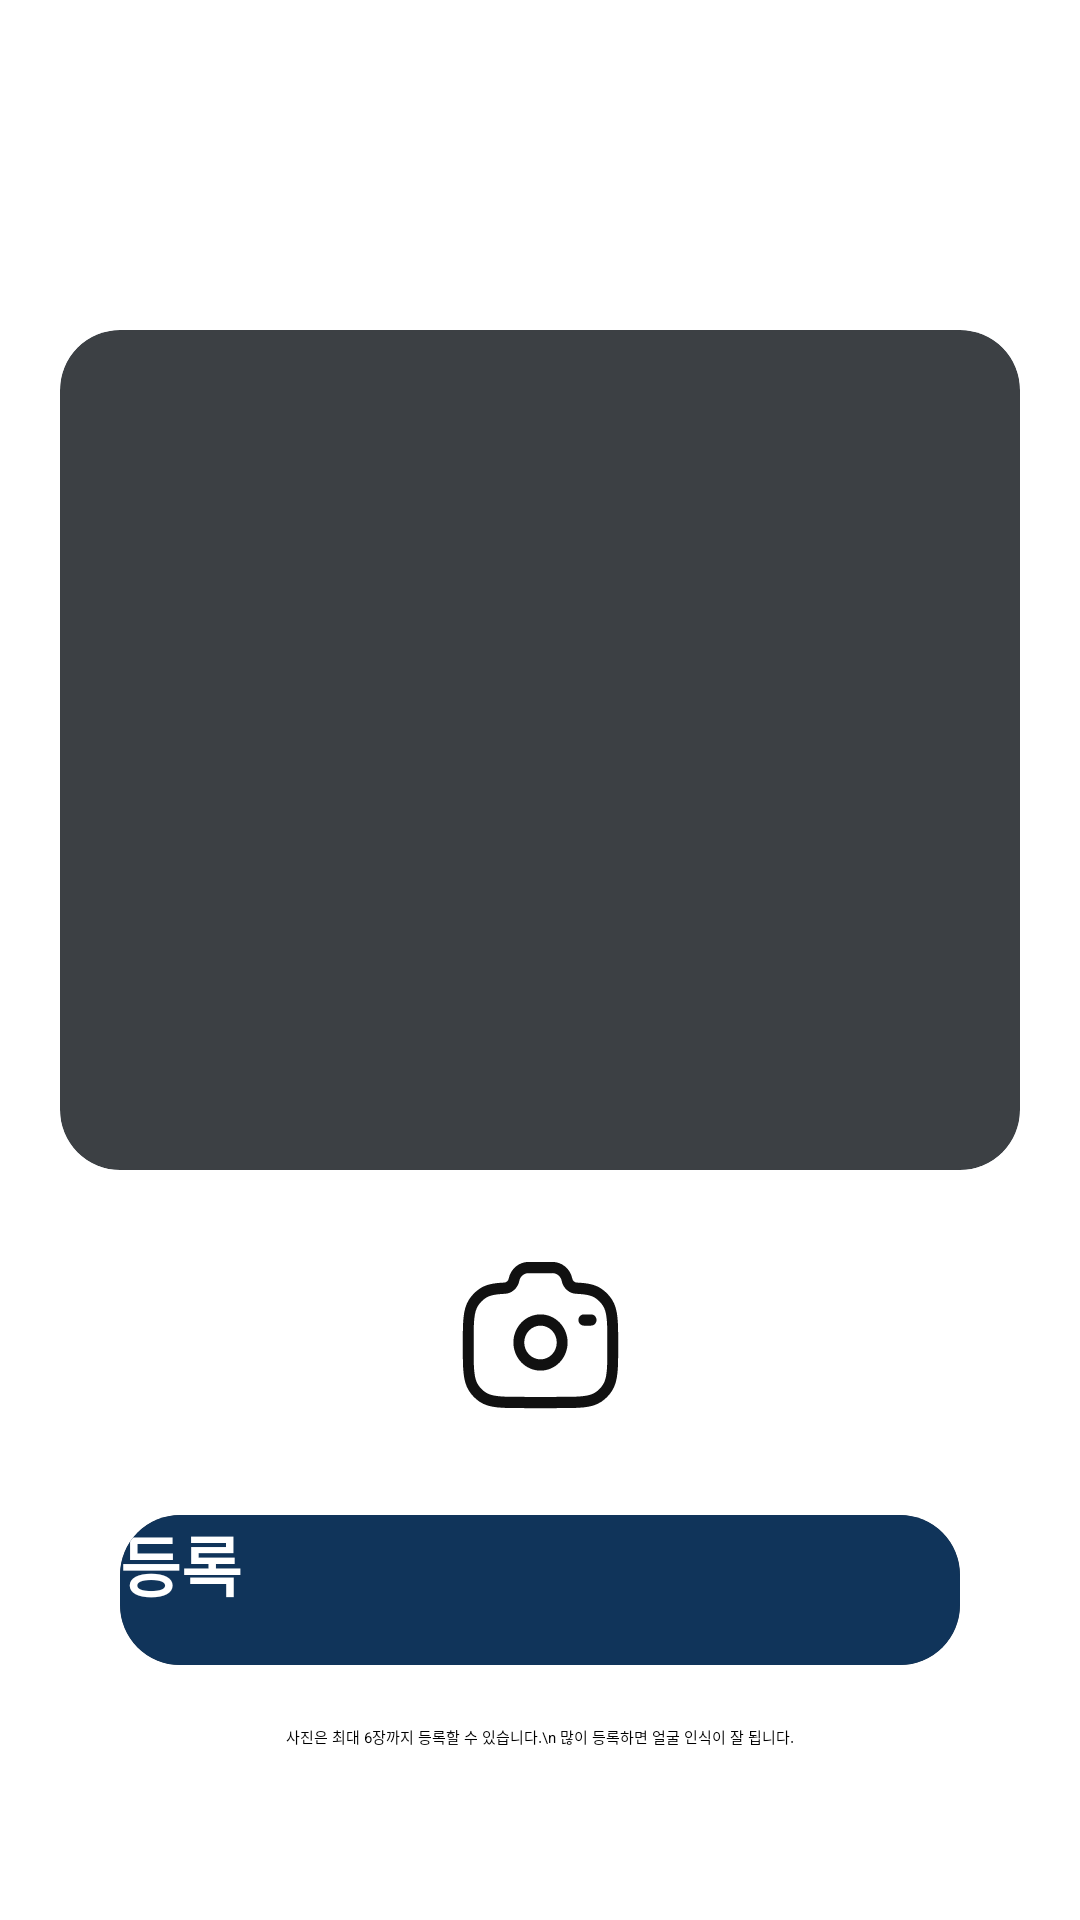

Point at icon controls on the screen. Image size 1080 x 1920, points as point (x, y).
camera: point (540, 1335)
